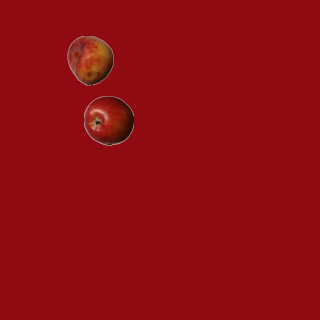Apple Braeburn: (83, 95, 133, 145)
Peach: (65, 35, 115, 85)
